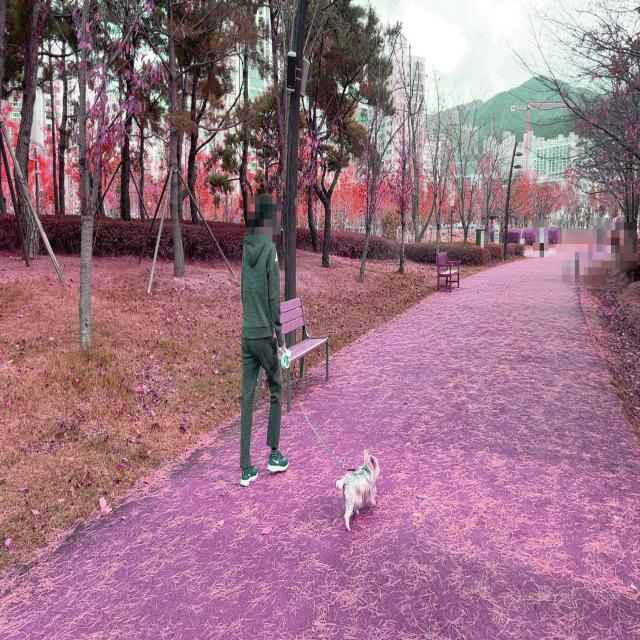Leashed_Dog: (269, 341, 380, 532)
